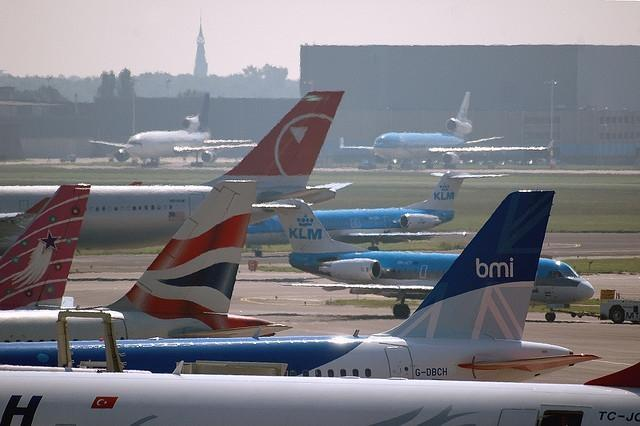truck: (554, 288, 640, 323)
